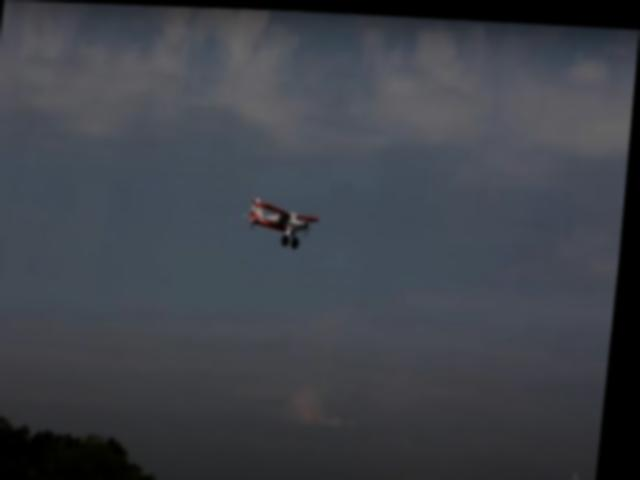uav: (248, 186, 327, 249)
